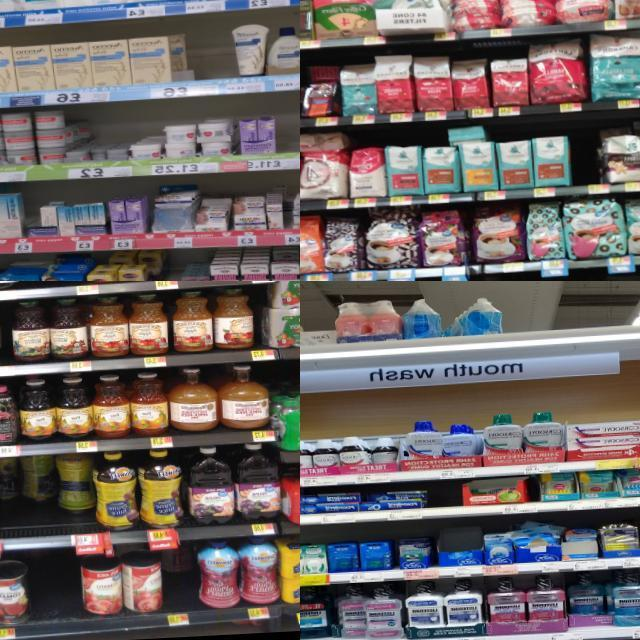Imprecise: (0, 450, 83, 547), (158, 542, 198, 608)
